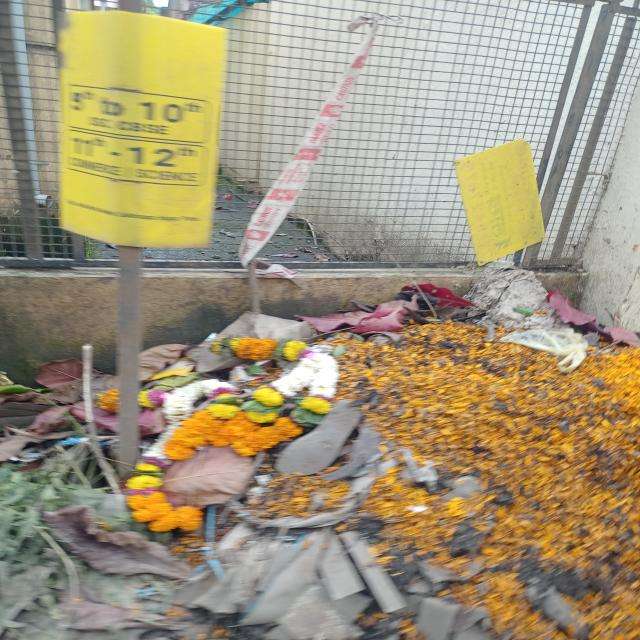garbage: (12, 291, 640, 640)
